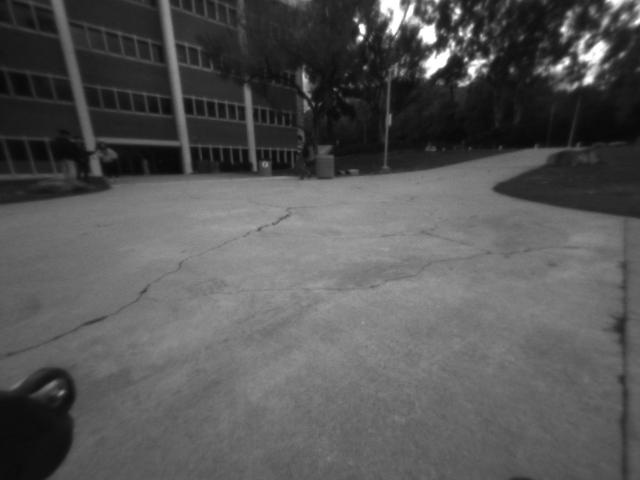trashcan: (313, 151, 336, 183), (258, 156, 272, 178)
